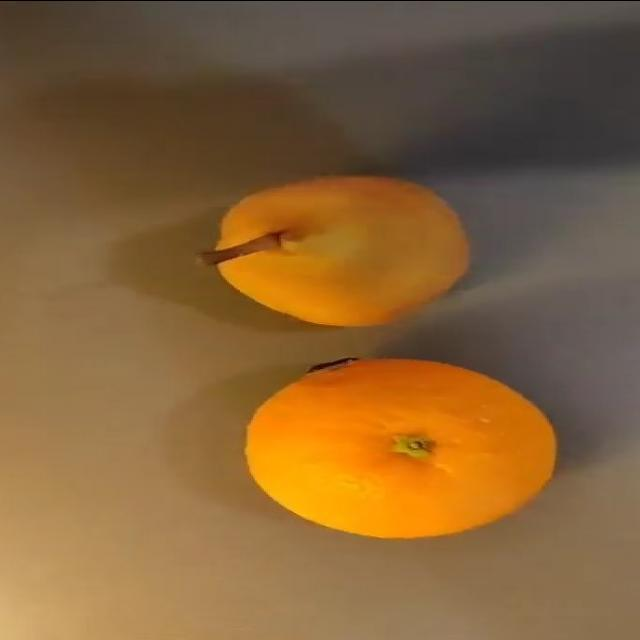Orange: (243, 355, 558, 540)
